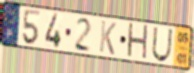2: (71, 17, 94, 53)
4: (44, 12, 63, 50)
5: (21, 7, 41, 46)
H: (126, 21, 149, 63)
K: (98, 19, 118, 57)
U: (151, 26, 174, 63)
